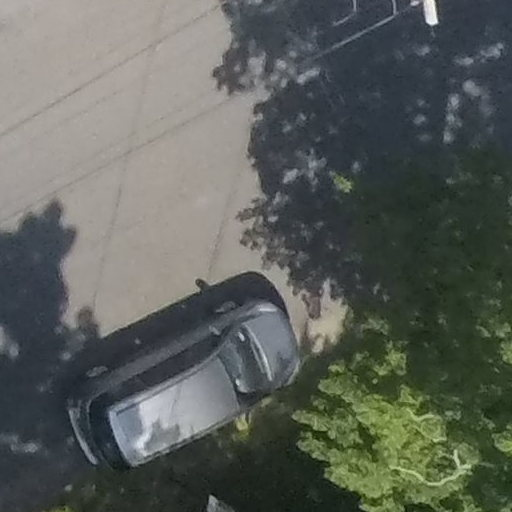car: (56, 258, 353, 487)
